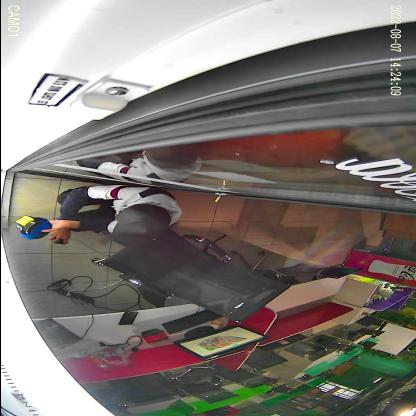blue: (19, 218, 51, 240)
yellow: (14, 216, 34, 232)
